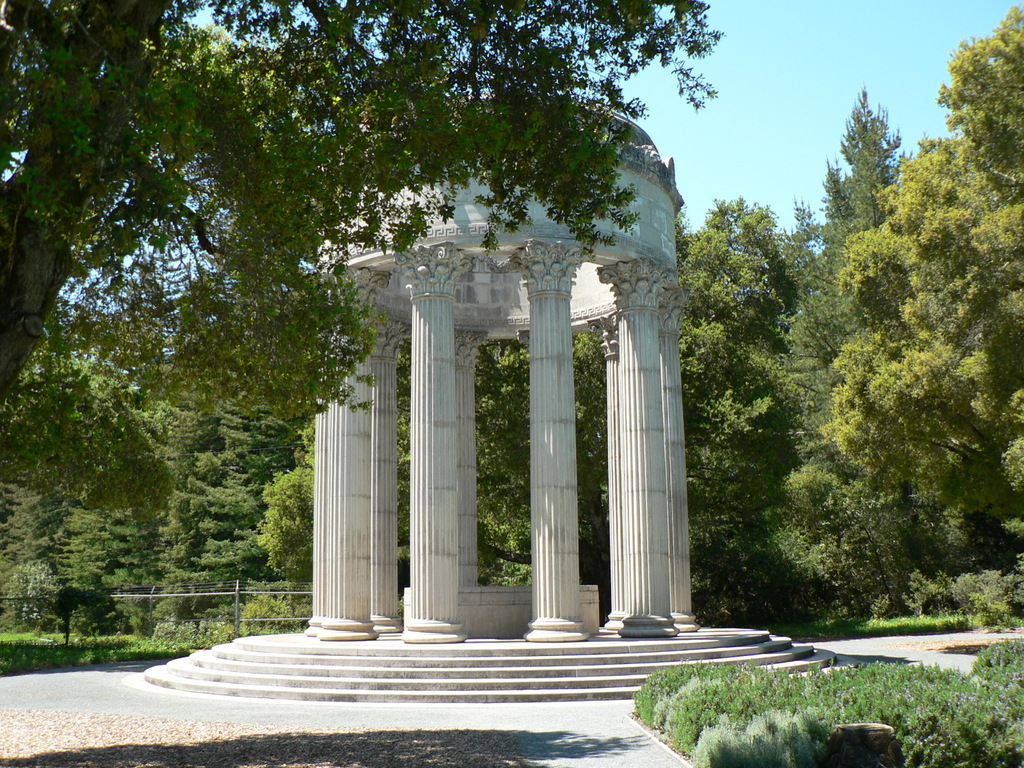Tree: (0, 3, 1023, 633), (0, 0, 719, 414)
